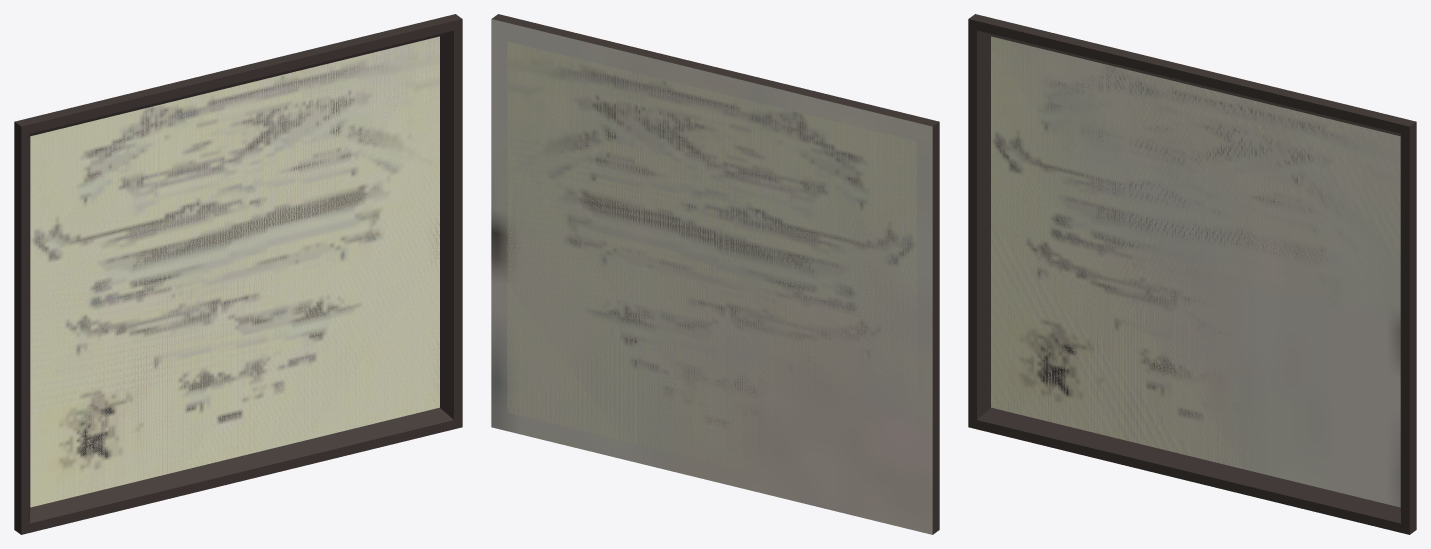
File: diploma02_wau.dae
3 views of the same model, side by side, from view 1: azimuth 30°, elevation 25°; view 2: azimuth 150°, elevation 25°; view 3: azimuth 330°, elevation 25° (orthographic).
Parts seen in each view (by area): view 1: pPlane4; view 2: pPlane4; view 3: pPlane4.
Boxes of the visible parts, bbox=[...] form: pPlane4: bbox=[14, 14, 462, 534]; pPlane4: bbox=[491, 14, 939, 534]; pPlane4: bbox=[968, 14, 1416, 534].
Size of the model in its own units: 26.66 by 23.58 by 0.7117.
